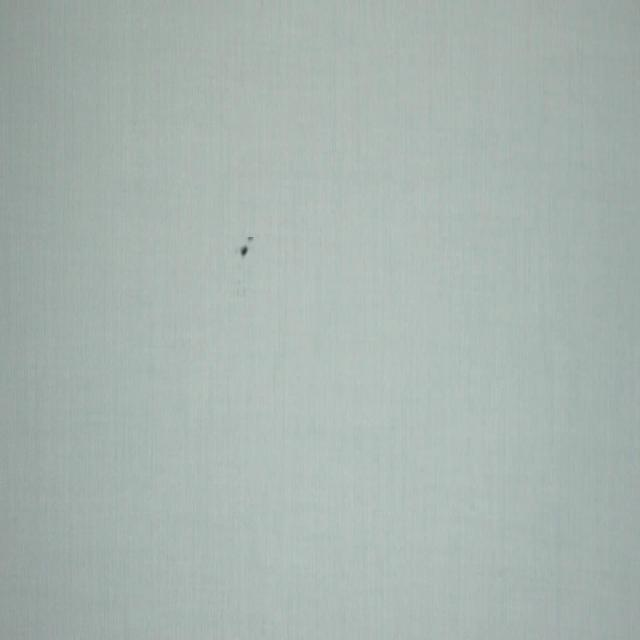dirty: (240, 236, 254, 257)
